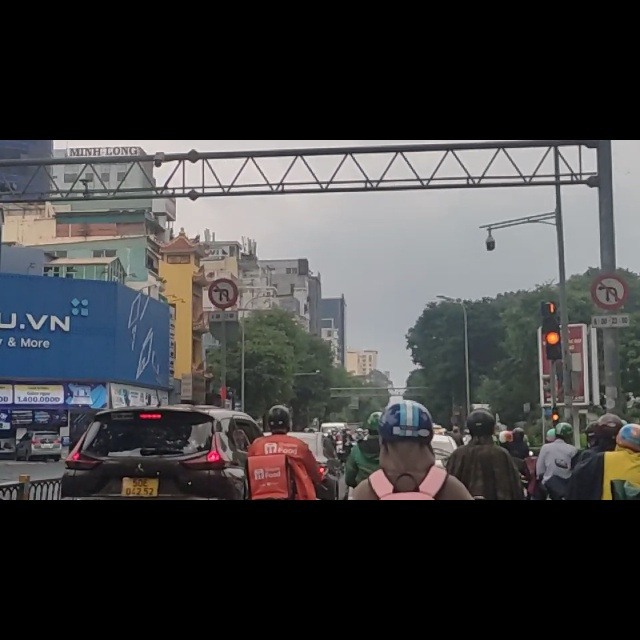bien_cam: (591, 237, 625, 302), (209, 243, 239, 300)
